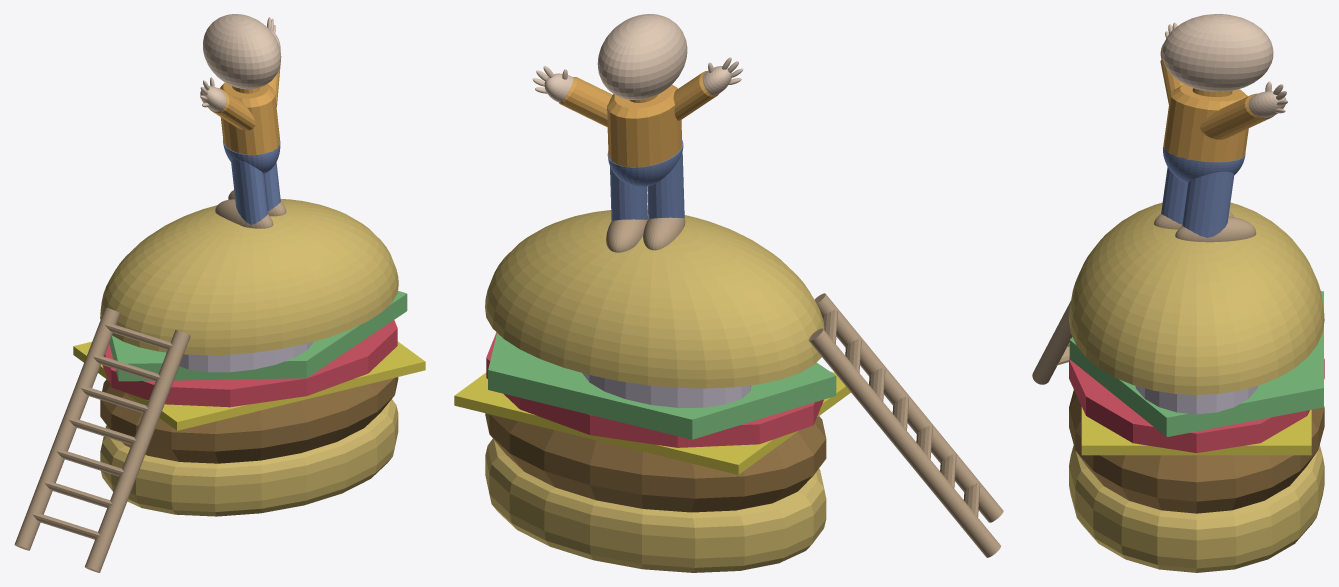
Rendered from tinker.glb.
The picture shows the model from 3 angles, left to right: view 1: azimuth 30°, elevation 25°; view 2: azimuth 150°, elevation 25°; view 3: azimuth 270°, elevation 25°; orthographic projection. The views are drawn at different scales.
Parts seen in each view (by area): view 1: Mesh_Mesh_head_geo.001_lambert2SG.001; view 2: Mesh_Mesh_head_geo.001_lambert2SG.001; view 3: Mesh_Mesh_head_geo.001_lambert2SG.001.
Boxes of the visible parts, x1,y1,x2,y2 form: Mesh_Mesh_head_geo.001_lambert2SG.001: (14, 14, 425, 572); Mesh_Mesh_head_geo.001_lambert2SG.001: (454, 14, 1003, 572); Mesh_Mesh_head_geo.001_lambert2SG.001: (1032, 14, 1324, 572).
Size of the model in its own units: 57.68 by 59 by 32.
